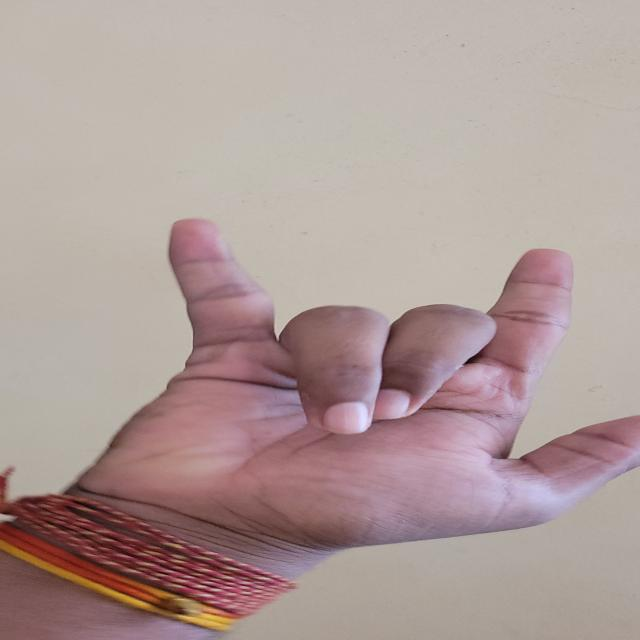i like you: (93, 189, 640, 576)
